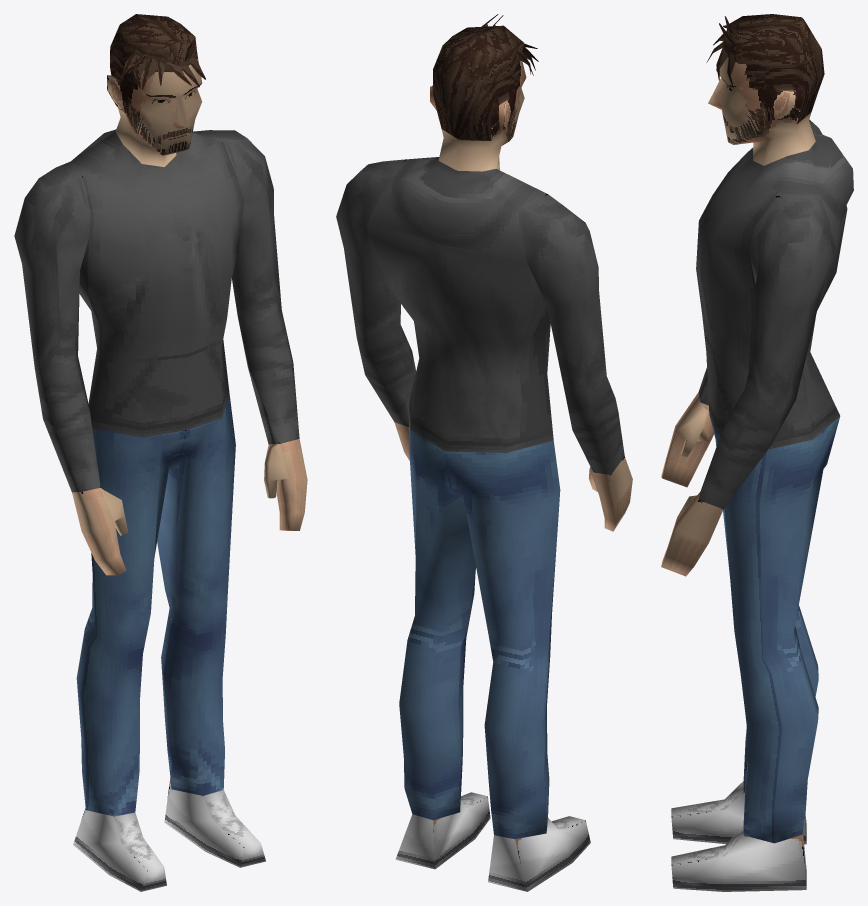
Rendered from body_human.glb.
The picture shows the model from 3 angles, left to right: view 1: azimuth 30°, elevation 25°; view 2: azimuth 150°, elevation 25°; view 3: azimuth 270°, elevation 25°; orthographic projection. The views are drawn at different scales.
Bounding box in the file's own units: 0.5656 × 1.81 × 0.3758.
1 material, 1 textured.
